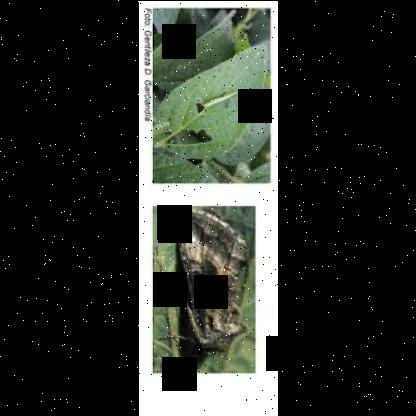agujero: (166, 126, 214, 146), (194, 99, 206, 113)
